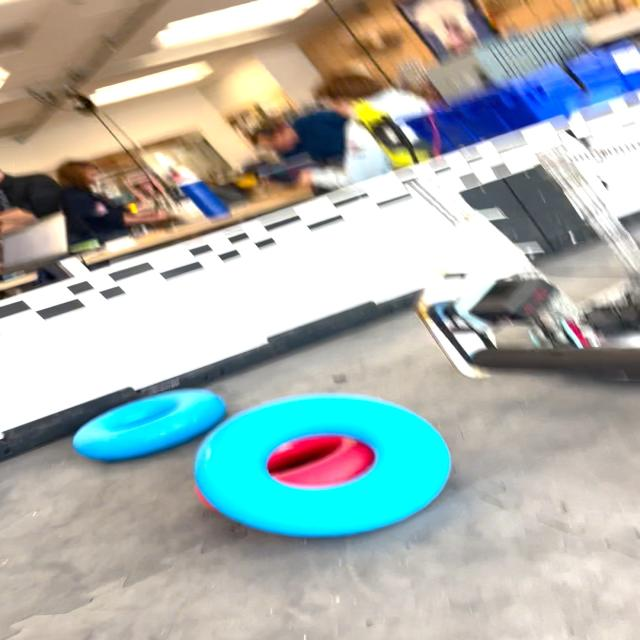Blue-Ring: (193, 394, 451, 536), (73, 389, 224, 461)
Red-Ring: (267, 435, 376, 489)
